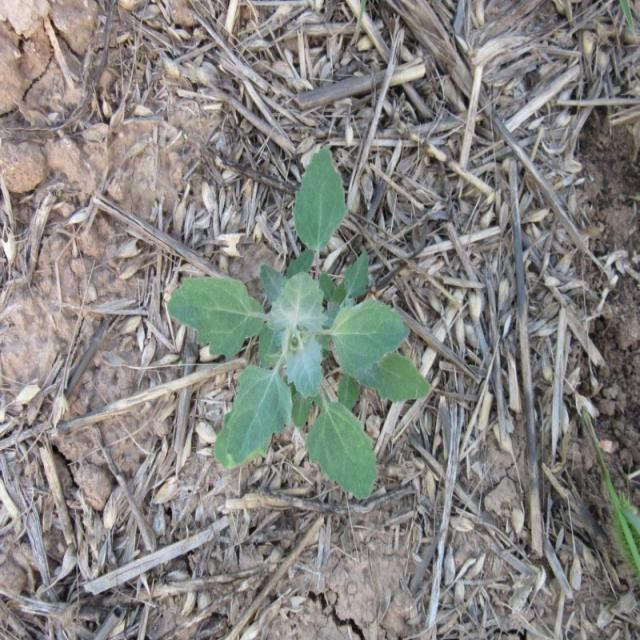ca: (168, 151, 432, 500)
